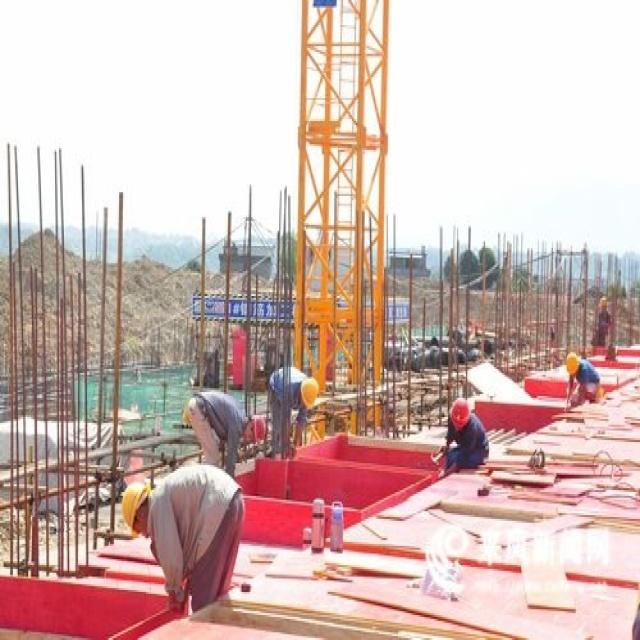helmet: (296, 500, 319, 547), (243, 547, 265, 593), (451, 533, 471, 575), (566, 464, 580, 500), (598, 396, 608, 419), (121, 637, 152, 640)
